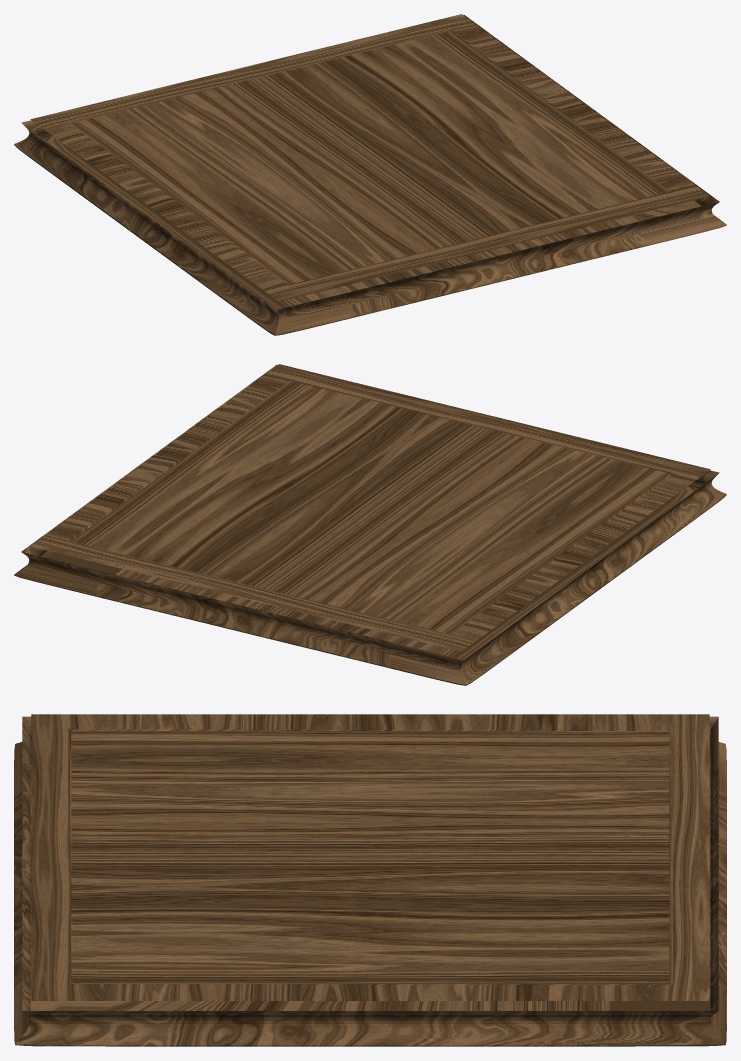
File: board.glb
3 renders of one model, top to bottom at view 1: azimuth 30°, elevation 25°; view 2: azimuth 150°, elevation 25°; view 3: azimuth 270°, elevation 25°, orthographic. The views are drawn at different scales.
Size of the model in its own units: 18.97 by 1.17 by 18.97.
Materials: 1 (1 with a texture image).
